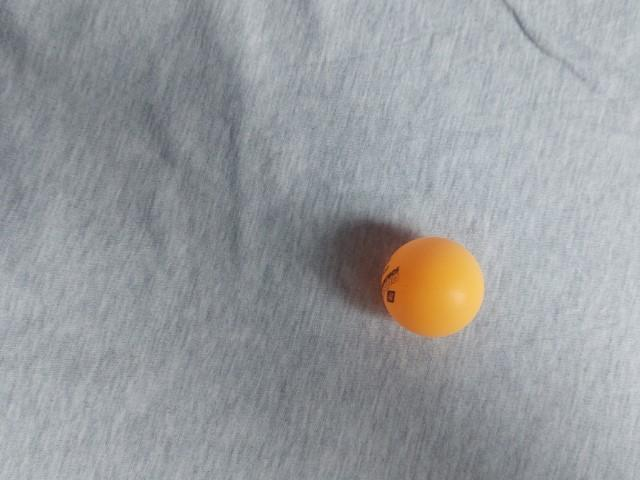oball: (147, 137, 267, 254)
